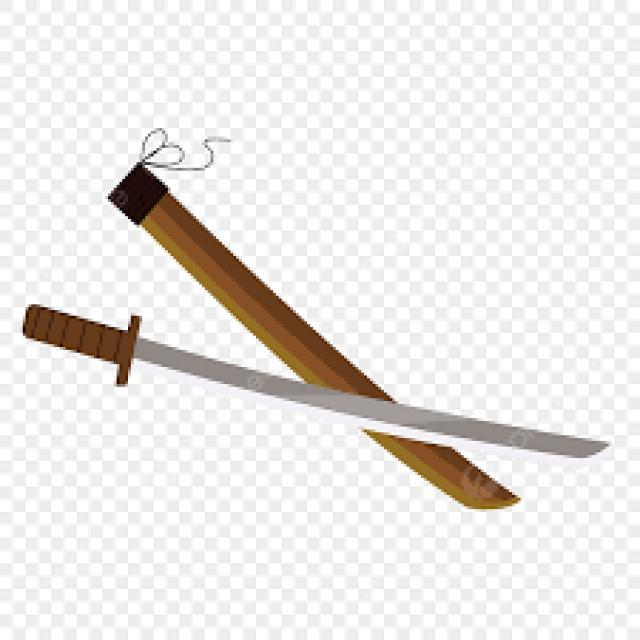long sword: (21, 296, 612, 464)
